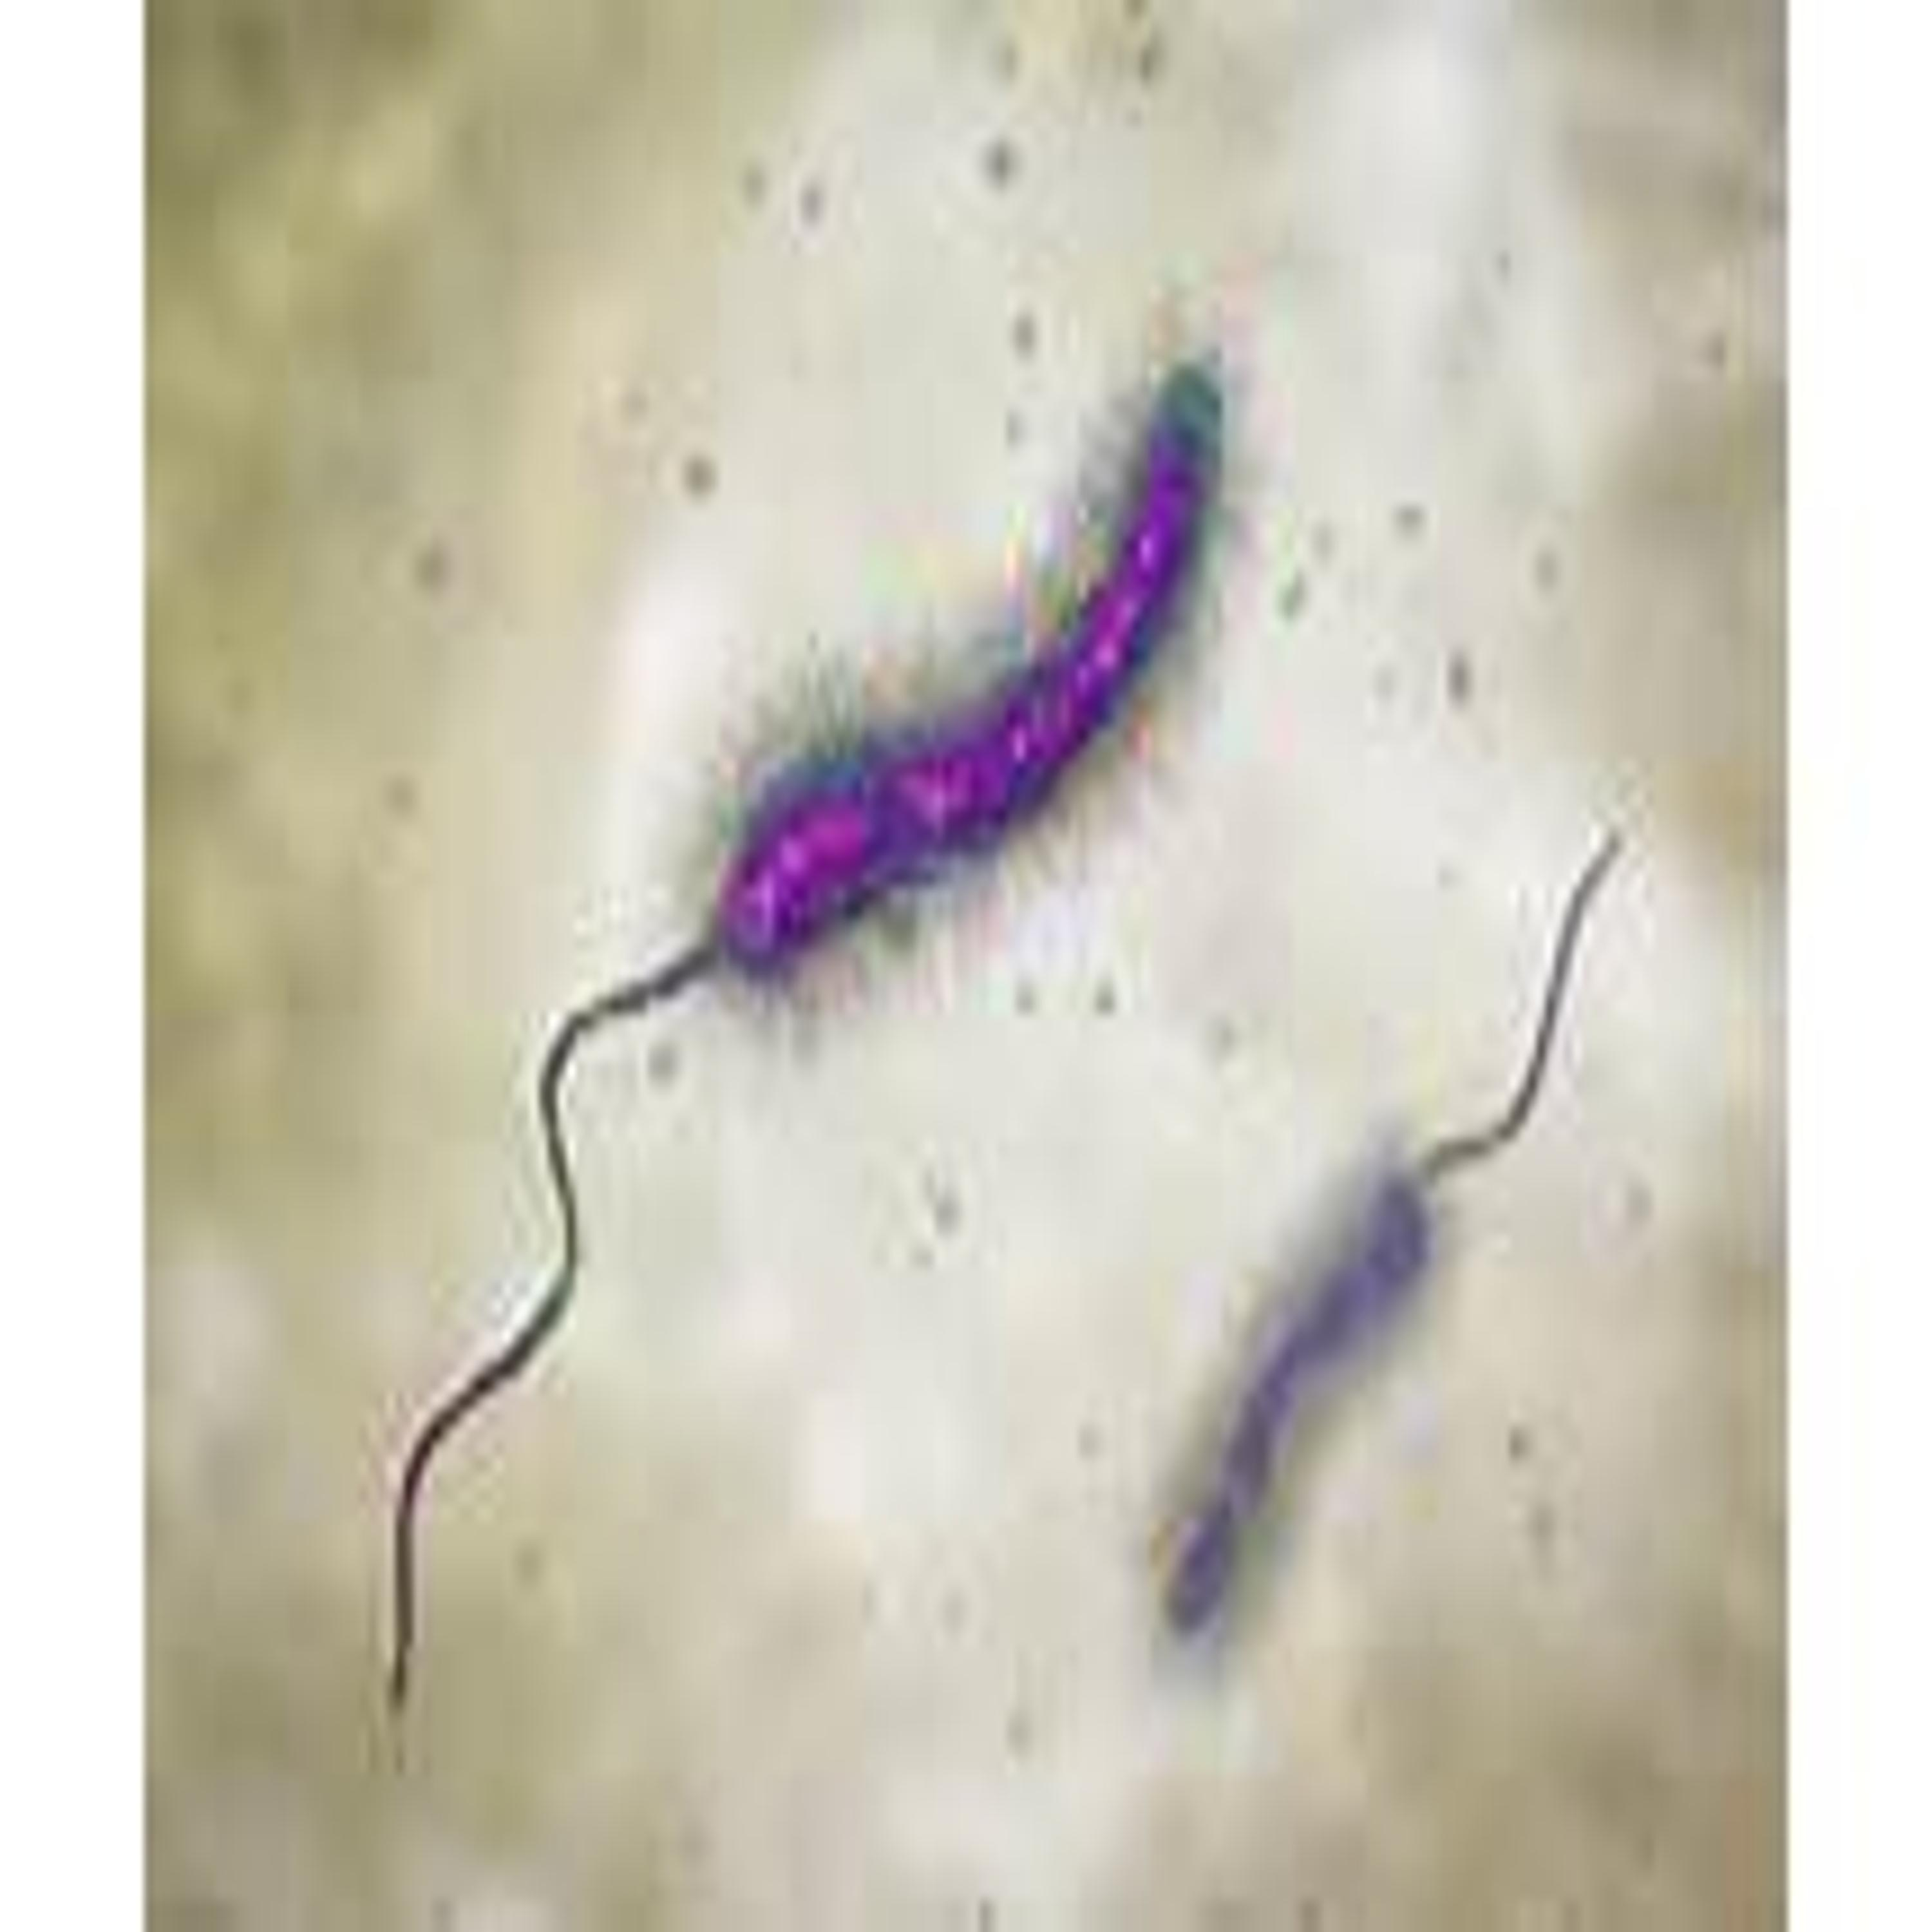Vibrio_cholerae5: (375, 343, 1244, 1736), (1154, 821, 1621, 1658)
